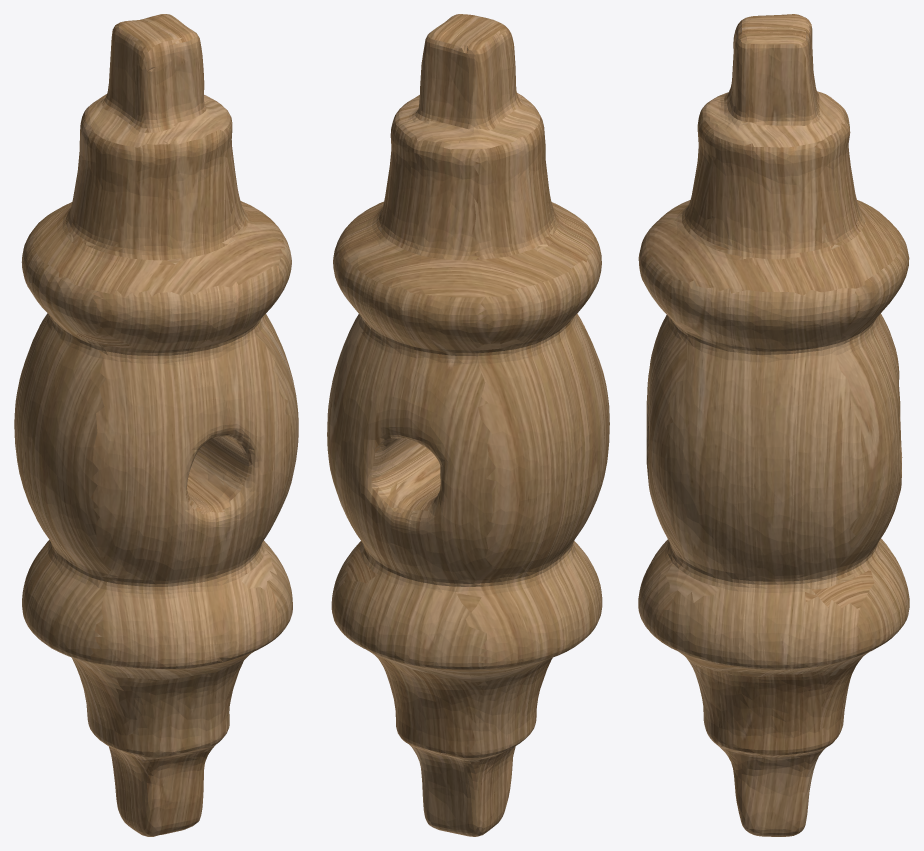
Rendered from Unt.glb.
The picture shows the model from 3 angles, left to right: view 1: azimuth 30°, elevation 25°; view 2: azimuth 150°, elevation 25°; view 3: azimuth 270°, elevation 25°; orthographic projection.
Visible parts, largest first — view 1: tmp_efn3sko.ply; view 2: tmp_efn3sko.ply; view 3: tmp_efn3sko.ply.
Boxes of the visible parts, x1=… form: tmp_efn3sko.ply: x1=14, y1=14, x2=298, y2=836; tmp_efn3sko.ply: x1=327, y1=14, x2=609, y2=836; tmp_efn3sko.ply: x1=638, y1=14, x2=909, y2=836.
Size of the model in its own units: 0.6129 by 1.96 by 0.6019.
1 material, 1 textured.
